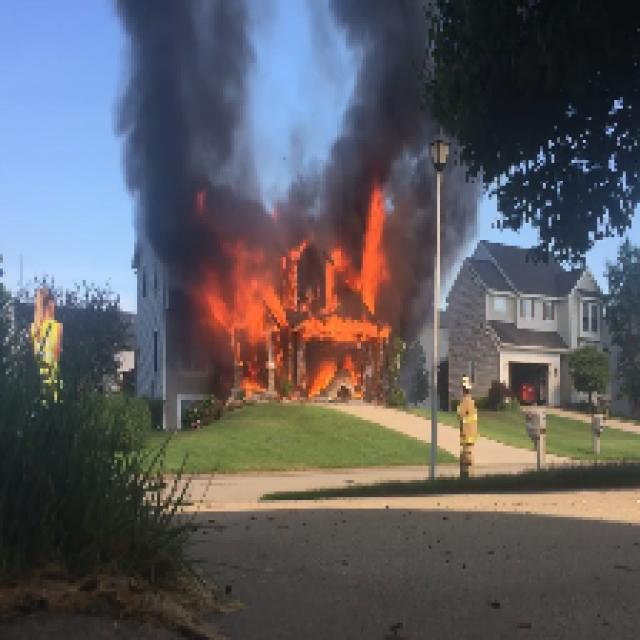fire: (210, 275, 290, 336), (353, 199, 388, 319), (306, 310, 360, 346)
smoke: (133, 0, 238, 270), (341, 8, 426, 193)
